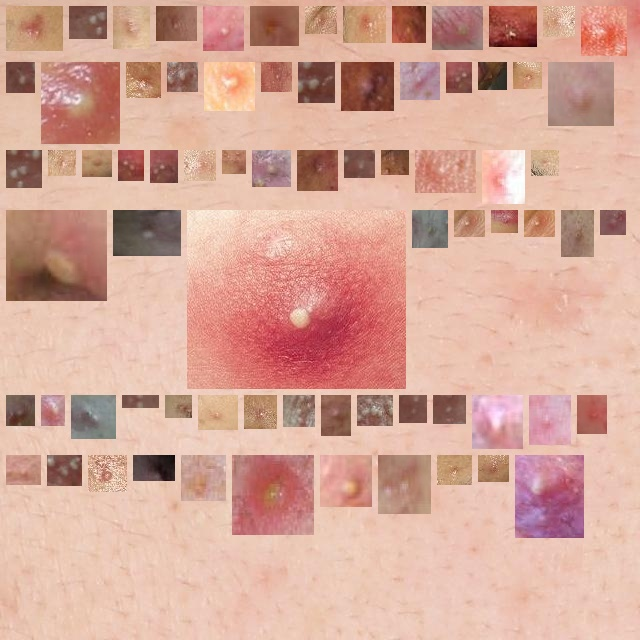pustule: (195, 218, 398, 381), (14, 218, 99, 293), (240, 463, 306, 527), (49, 70, 112, 136), (523, 457, 576, 530), (556, 70, 606, 118), (386, 463, 423, 506), (328, 463, 364, 507), (121, 218, 173, 248), (480, 403, 515, 441), (349, 70, 386, 103), (423, 158, 468, 185), (14, 14, 55, 43), (212, 70, 247, 103), (490, 158, 517, 196), (589, 14, 619, 48), (440, 14, 475, 42), (537, 403, 563, 437), (189, 463, 218, 493), (79, 403, 108, 431), (497, 14, 529, 39), (258, 14, 291, 38), (211, 14, 236, 43), (305, 158, 330, 183), (306, 70, 330, 95), (121, 14, 142, 41), (351, 14, 378, 35), (408, 70, 432, 92), (569, 218, 586, 249), (260, 158, 283, 179), (96, 463, 119, 484), (164, 14, 189, 33), (206, 403, 230, 422), (141, 463, 167, 480), (14, 158, 34, 180), (420, 218, 440, 240), (134, 70, 153, 90), (400, 14, 418, 35), (77, 14, 99, 31), (329, 403, 343, 428), (585, 403, 599, 426), (252, 403, 269, 421), (365, 403, 385, 418), (55, 463, 74, 478), (14, 463, 33, 477), (445, 463, 464, 477), (291, 403, 307, 419), (551, 14, 567, 29), (192, 158, 208, 173), (441, 403, 458, 416), (175, 70, 190, 84), (269, 70, 284, 84), (158, 158, 170, 175), (14, 70, 27, 85), (14, 403, 27, 418), (313, 14, 329, 26), (352, 158, 367, 170), (462, 218, 477, 229), (532, 218, 547, 229), (486, 463, 501, 474), (486, 70, 499, 82), (90, 158, 104, 169), (454, 70, 464, 85), (126, 158, 136, 173), (407, 403, 419, 415), (521, 70, 534, 81), (56, 158, 68, 168), (539, 158, 551, 168), (49, 403, 57, 418), (389, 158, 401, 167), (608, 218, 618, 227), (499, 218, 510, 225), (173, 403, 184, 410), (230, 158, 238, 166)
